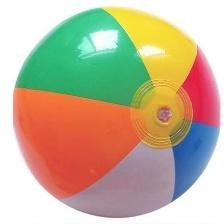Sports-Ball: (14, 0, 220, 218)
